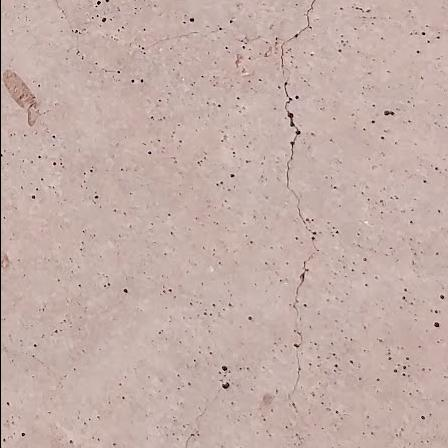crack: (277, 1, 321, 400), (181, 404, 208, 448)
